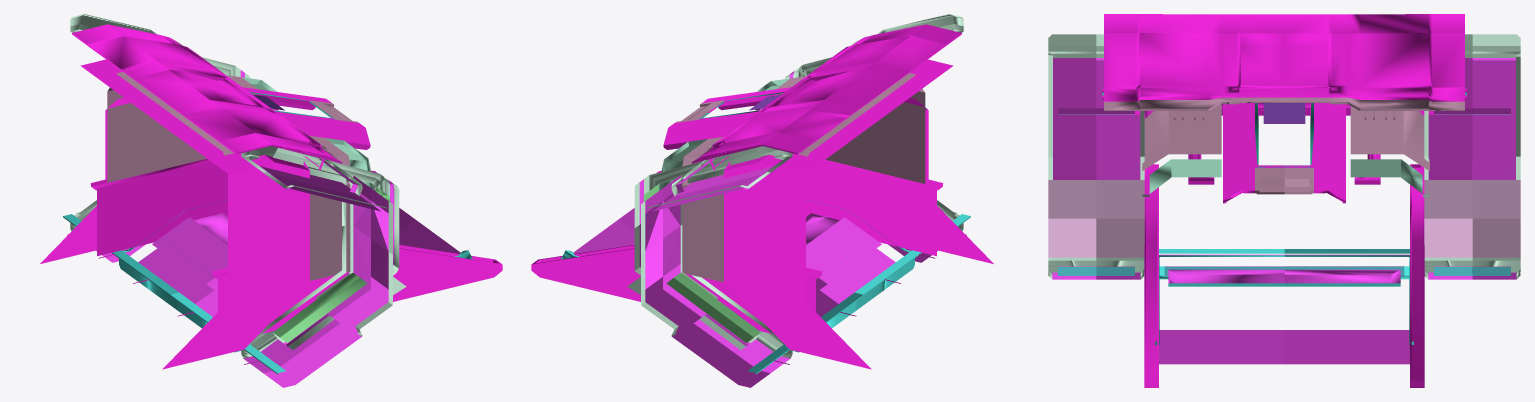
Rendered from core_b_sml_a_side_a_lod1.glb.
3 renders of one model, left to right at view 1: azimuth 30°, elevation 25°; view 2: azimuth 150°, elevation 25°; view 3: azimuth 270°, elevation 25°, orthographic. The views are drawn at different scales.
Bounding box in the file's own units: 121 × 73.48 × 128.
